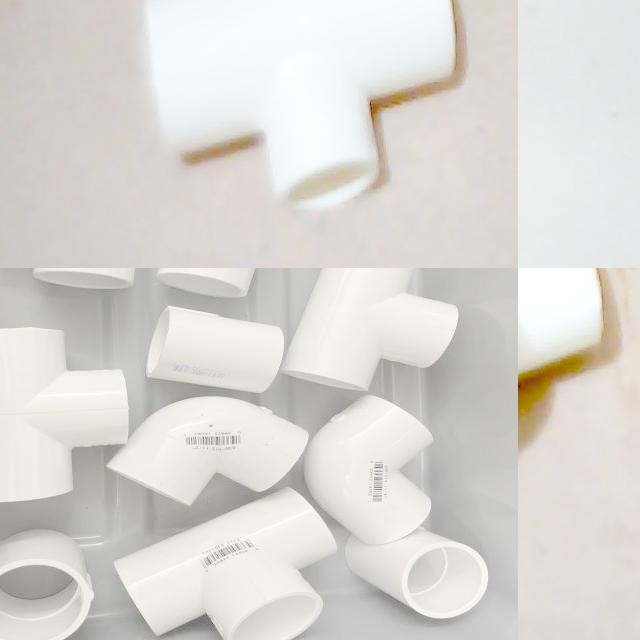L Joint: (105, 396, 309, 507), (310, 395, 434, 541)
T Joint: (142, 0, 455, 215), (114, 488, 338, 640), (0, 327, 129, 504), (280, 268, 458, 394), (518, 268, 624, 400)
